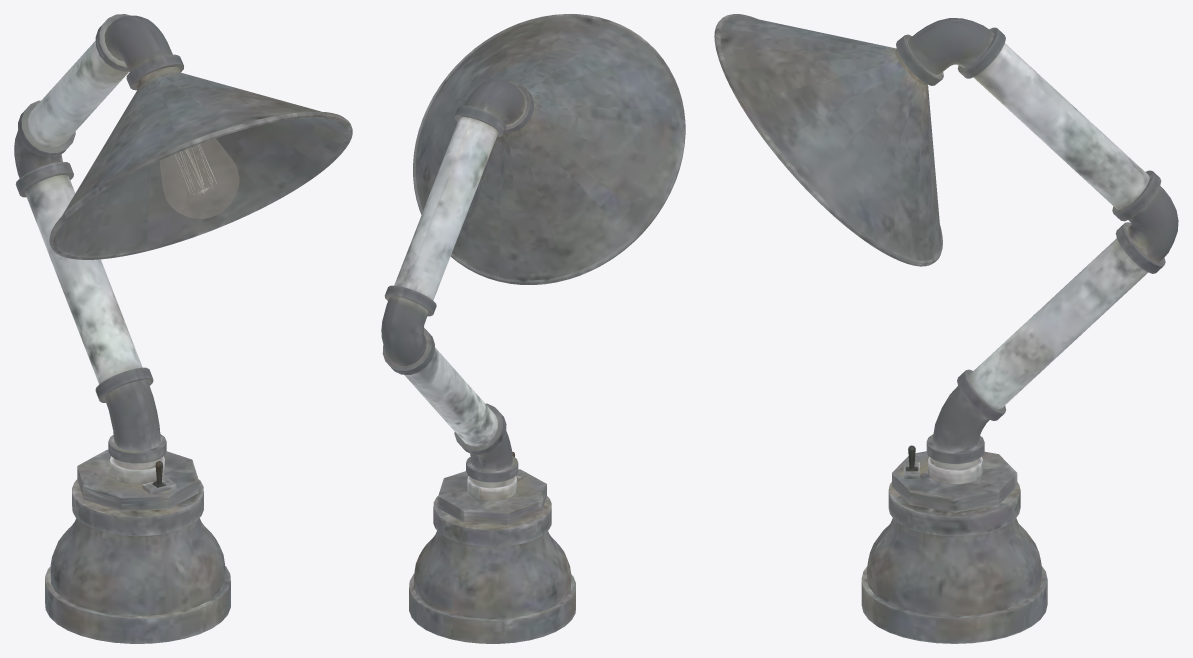
Rendered from desklamp.glb.
3 views of the same model, side by side, from view 1: azimuth 30°, elevation 25°; view 2: azimuth 150°, elevation 25°; view 3: azimuth 270°, elevation 25° (orthographic). The views are drawn at different scales.
Parts seen in each view (by area): view 1: industrial_pipe_lamp, industrial_pipe_lamp_bulb; view 2: industrial_pipe_lamp; view 3: industrial_pipe_lamp.
Part boxes in pixels (bbox=[...]): industrial_pipe_lamp: bbox=[14, 14, 352, 643]; industrial_pipe_lamp_bulb: bbox=[160, 138, 239, 218]; industrial_pipe_lamp: bbox=[381, 14, 685, 643]; industrial_pipe_lamp: bbox=[714, 14, 1178, 643].
Bounding box in the file's own units: 0.183 × 0.3641 × 0.2621.
Materials: 2 (2 with a texture image).
